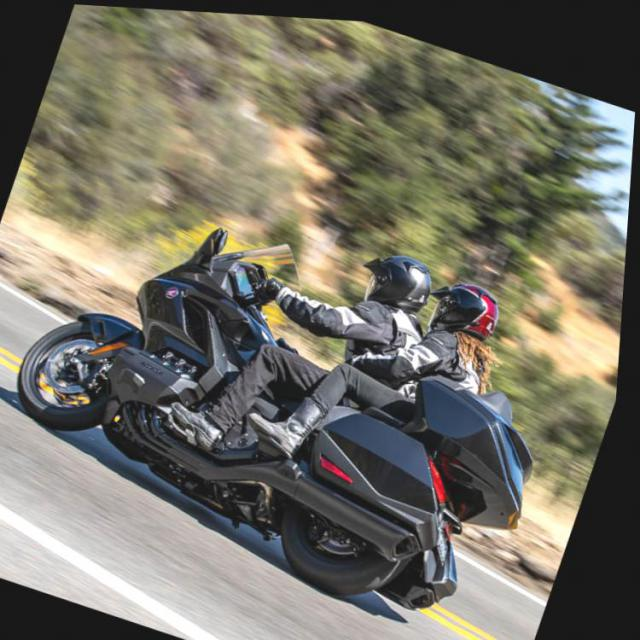Gold Wing: (0, 172, 594, 639)
